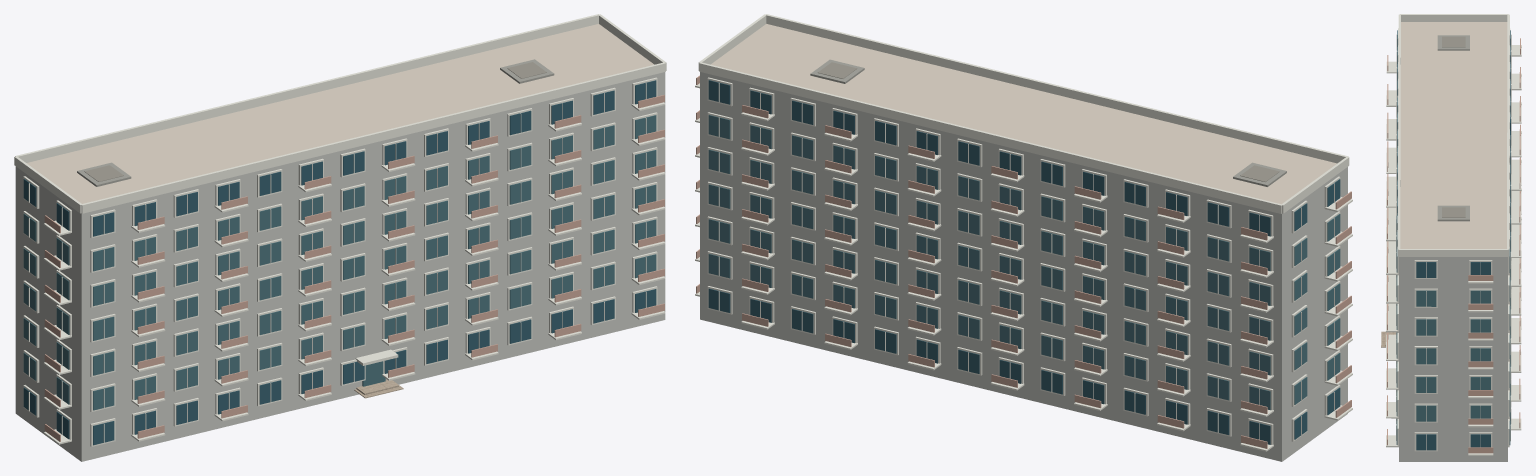
File: chunk-dorm-way-880036344.glb
3 renders of one model, left to right at view 1: azimuth 30°, elevation 25°; view 2: azimuth 150°, elevation 25°; view 3: azimuth 270°, elevation 25°, orthographic. The views are drawn at different scales.
Parts seen in each view (by area): view 1: chunk-dorm-way-880036344; view 2: chunk-dorm-way-880036344; view 3: chunk-dorm-way-880036344.
Part boxes in pixels (bbox=[...]): chunk-dorm-way-880036344: bbox=[14, 14, 666, 461]; chunk-dorm-way-880036344: bbox=[695, 14, 1352, 461]; chunk-dorm-way-880036344: bbox=[1381, 14, 1521, 461].
Size of the model in its own units: 60.67 by 24.4 by 14.65.
Materials: 9 (1 with a texture image).
